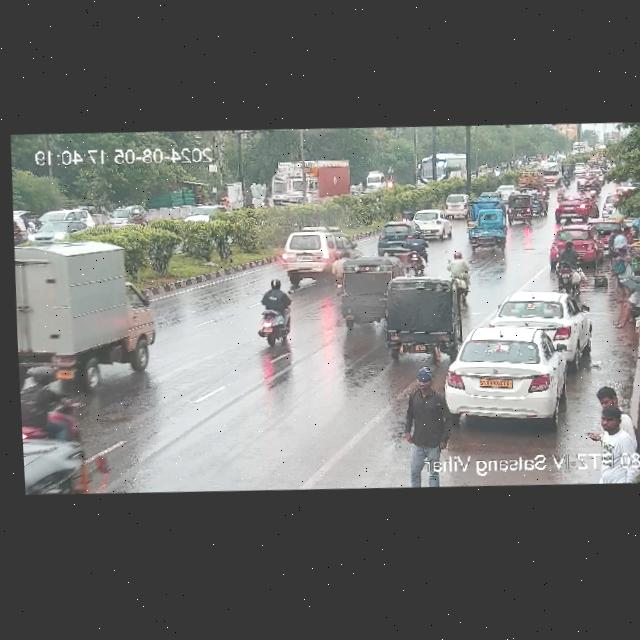bus: (415, 153, 469, 189)
car: (429, 320, 579, 424), (378, 276, 465, 360), (489, 289, 588, 351), (331, 253, 403, 324), (24, 435, 104, 494), (277, 230, 347, 281), (31, 206, 92, 245), (551, 227, 601, 261), (406, 208, 452, 236), (465, 203, 510, 229), (374, 219, 406, 253), (468, 226, 509, 250), (553, 194, 590, 219), (503, 194, 532, 222), (436, 193, 468, 218), (188, 203, 221, 223), (469, 192, 501, 206), (106, 205, 128, 225), (586, 168, 602, 180), (573, 161, 585, 174), (487, 165, 496, 175), (500, 162, 508, 172), (479, 162, 487, 170)
motorcycle: (20, 367, 79, 441), (258, 279, 294, 356), (555, 238, 583, 289), (450, 248, 474, 305), (406, 229, 430, 274), (589, 177, 602, 197), (130, 207, 144, 225), (539, 182, 549, 201), (556, 184, 564, 199), (579, 177, 587, 192), (563, 171, 570, 186), (260, 194, 268, 207)
person: (404, 363, 454, 456), (584, 380, 640, 440), (609, 275, 640, 328), (603, 227, 629, 277), (631, 359, 640, 477), (223, 196, 229, 210)
truck: (13, 237, 160, 380), (259, 157, 355, 208), (513, 166, 541, 190), (539, 161, 561, 187), (363, 167, 387, 190)
